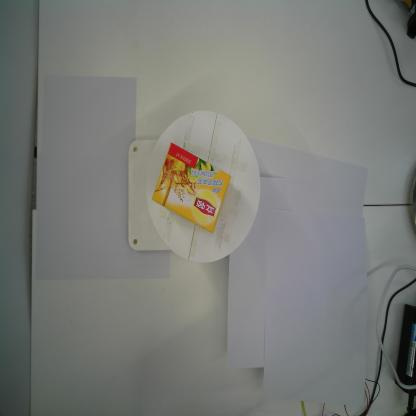Instant Drink: (151, 142, 232, 234)
